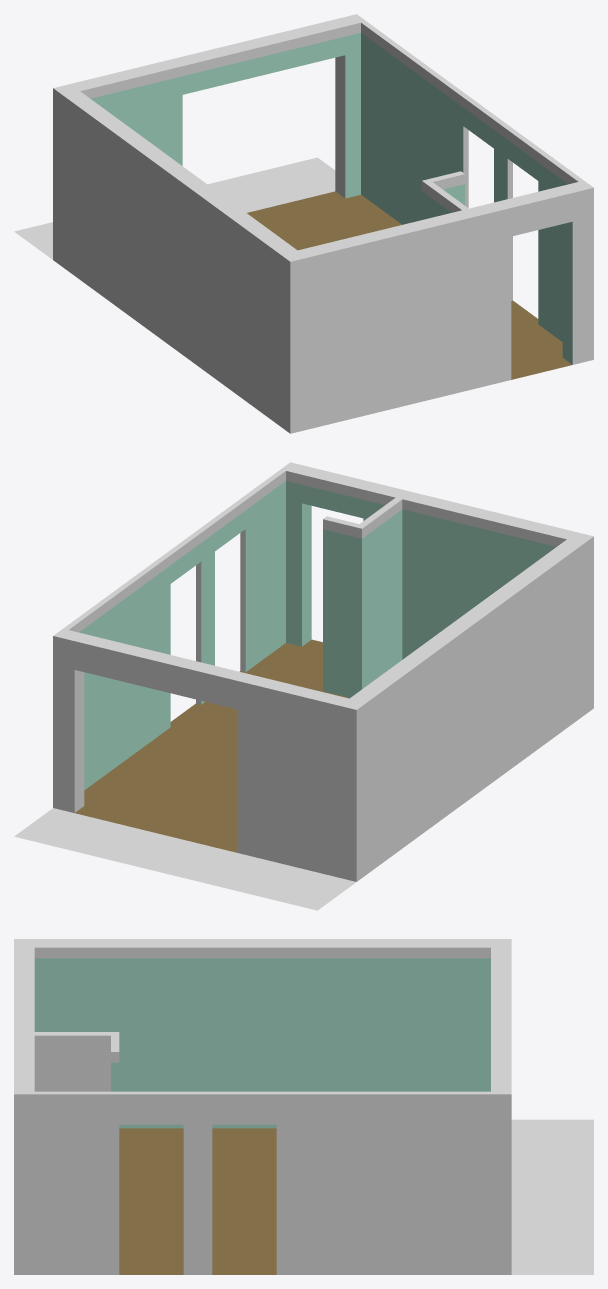
Rendered from Living.fbx.
The picture shows the model from 3 angles, top to bottom: view 1: azimuth 30°, elevation 25°; view 2: azimuth 150°, elevation 25°; view 3: azimuth 270°, elevation 25°; orthographic projection. The views are drawn at different scales.
Visible parts, largest first — view 1: Flat.001; view 2: Flat.001; view 3: Flat.001.
Boxes of the visible parts, x1,y1,x2,y2 form: Flat.001: (14,14,593,433); Flat.001: (14,462,593,910); Flat.001: (14,939,593,1274).
Size of the model in its own units: 443 by 240 by 699.
